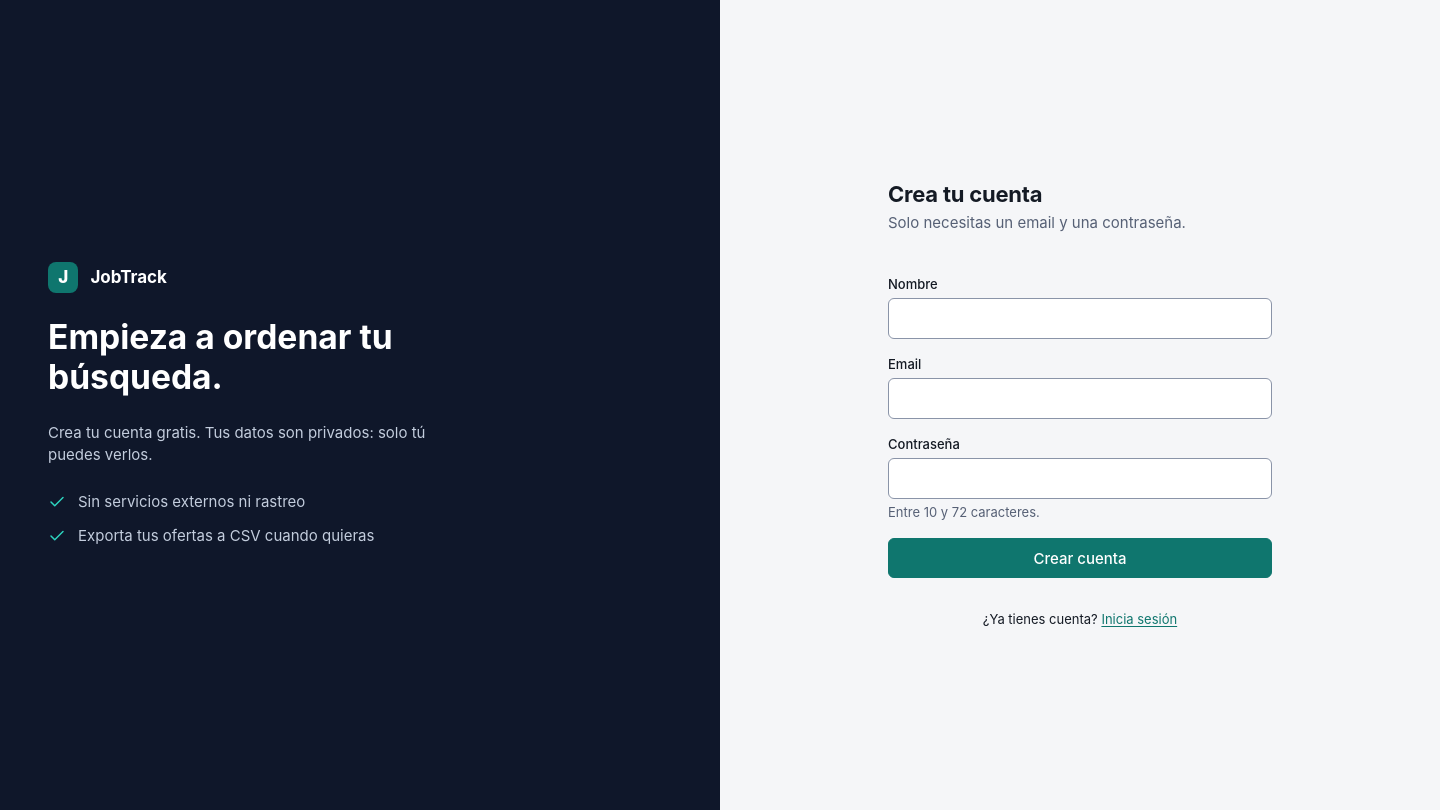
Test: RegisterComponent › muestra el error del servidor junto al campo nombre cuando solo falla ese campo
Type "   x" into the field with id "displayName" at (1080, 318), box 888,298 -> 1272,338
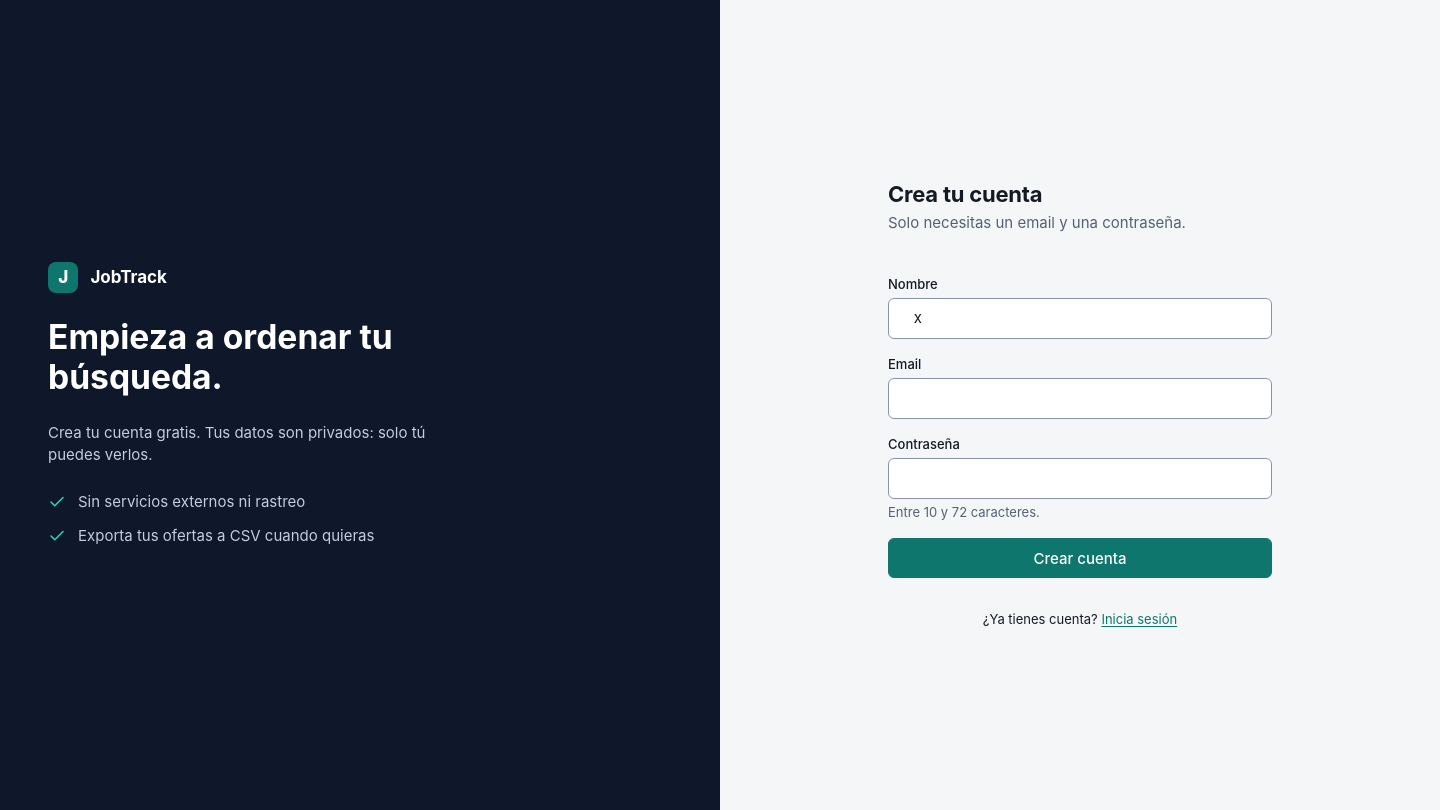
Type "ana@example.com" into the field labelled "Email" at (1080, 398), box 888,378 -> 1272,418
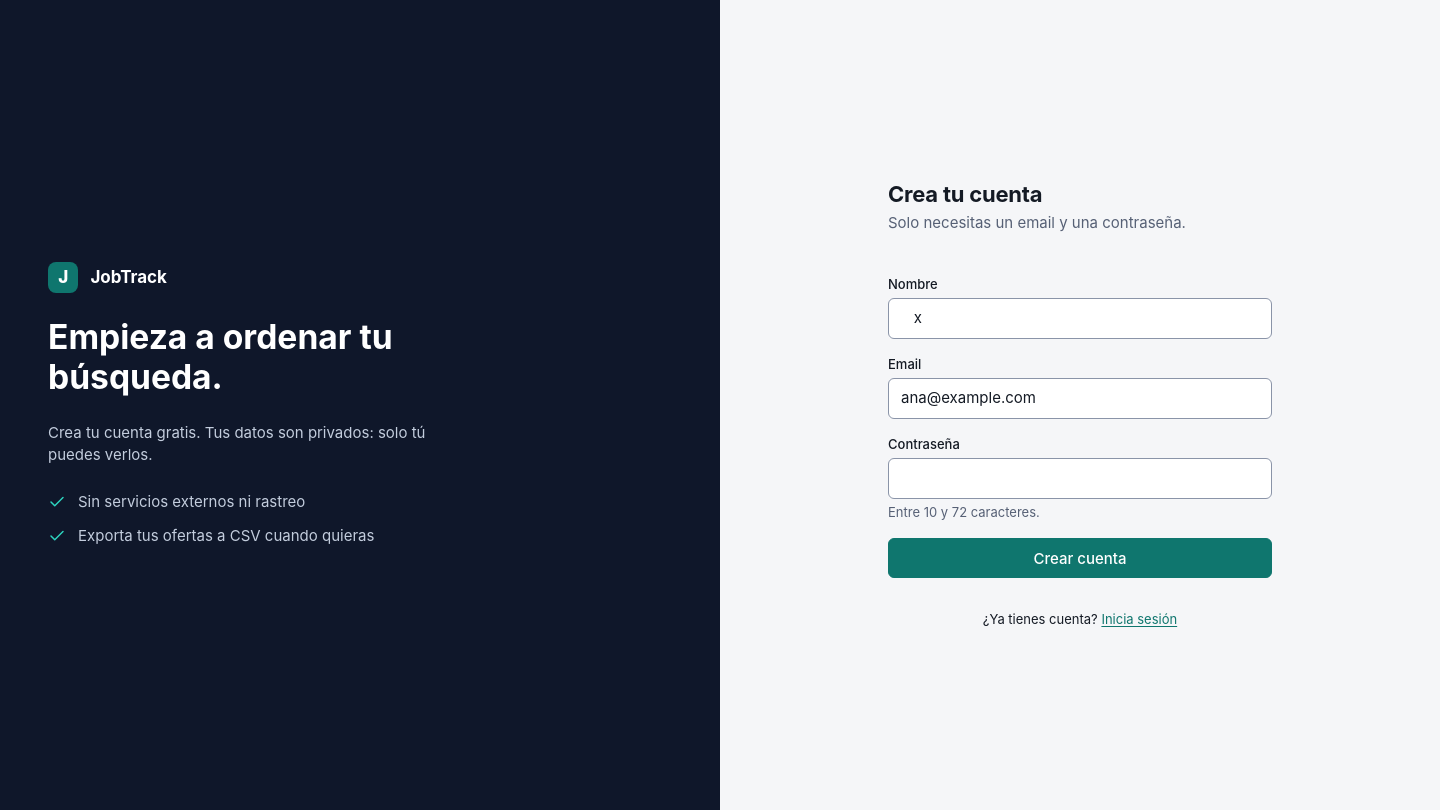
Type "una-contraseña-larga" into the password field labelled "Contraseña" at (1080, 478), box 888,458 -> 1272,498
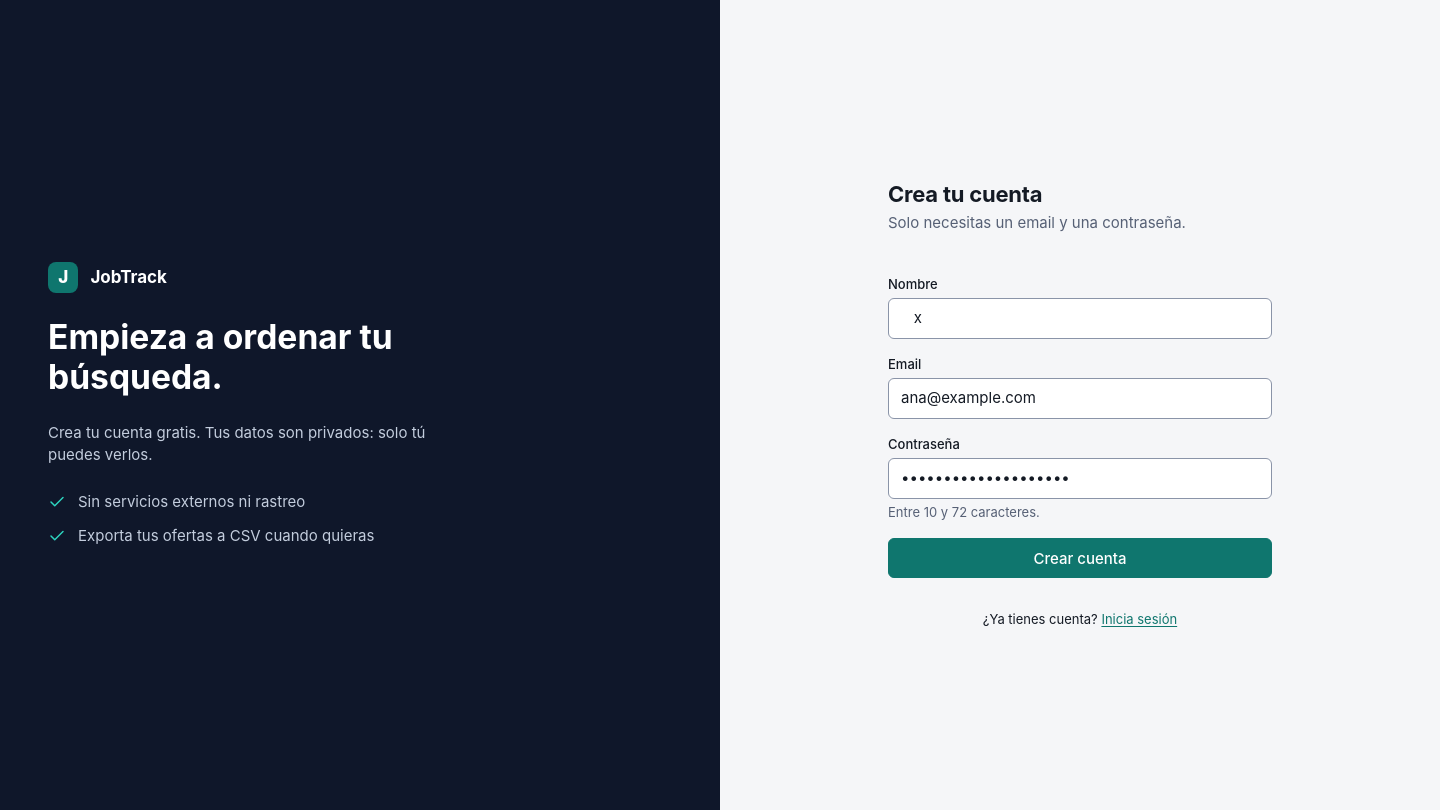
Submit the form, box 888,180 -> 1272,630
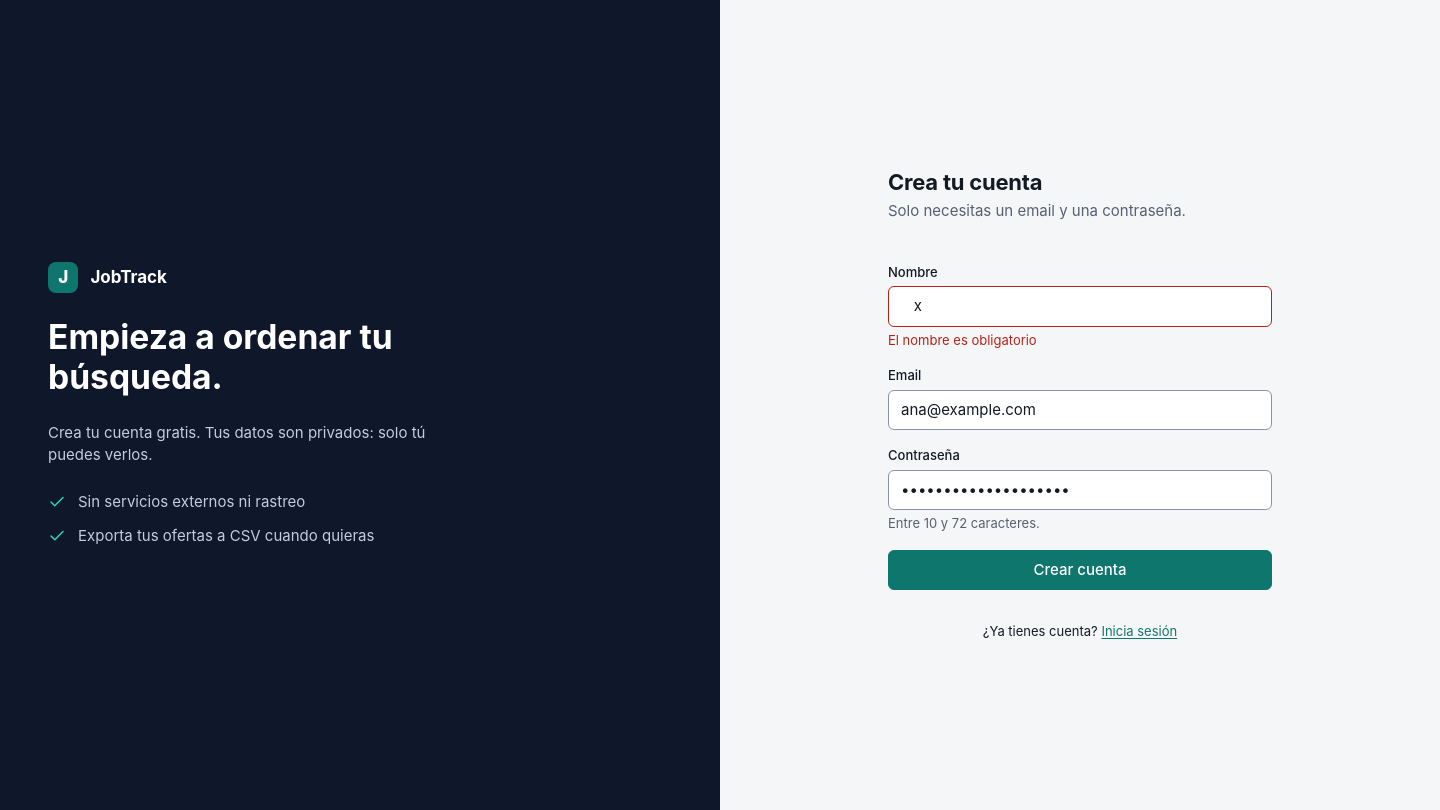
Expected: the text with id "name-err" reads "El nombre es obligatorio", 888,332 -> 1037,348
